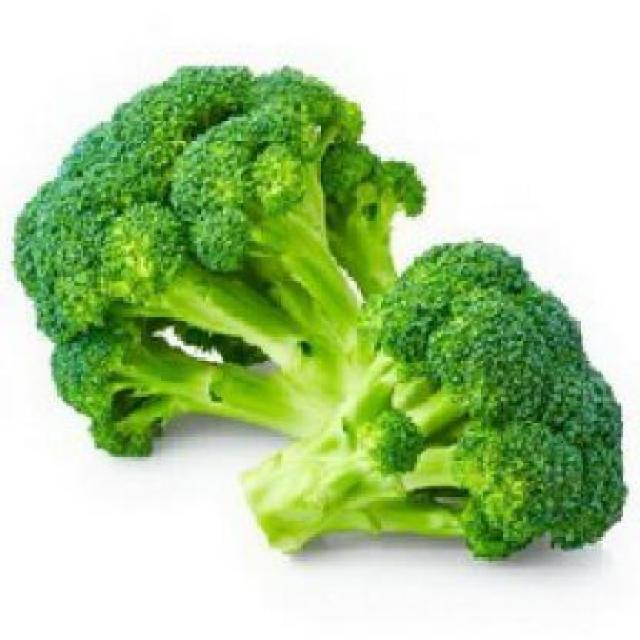broccoli: (31, 71, 418, 440), (308, 246, 618, 563)
